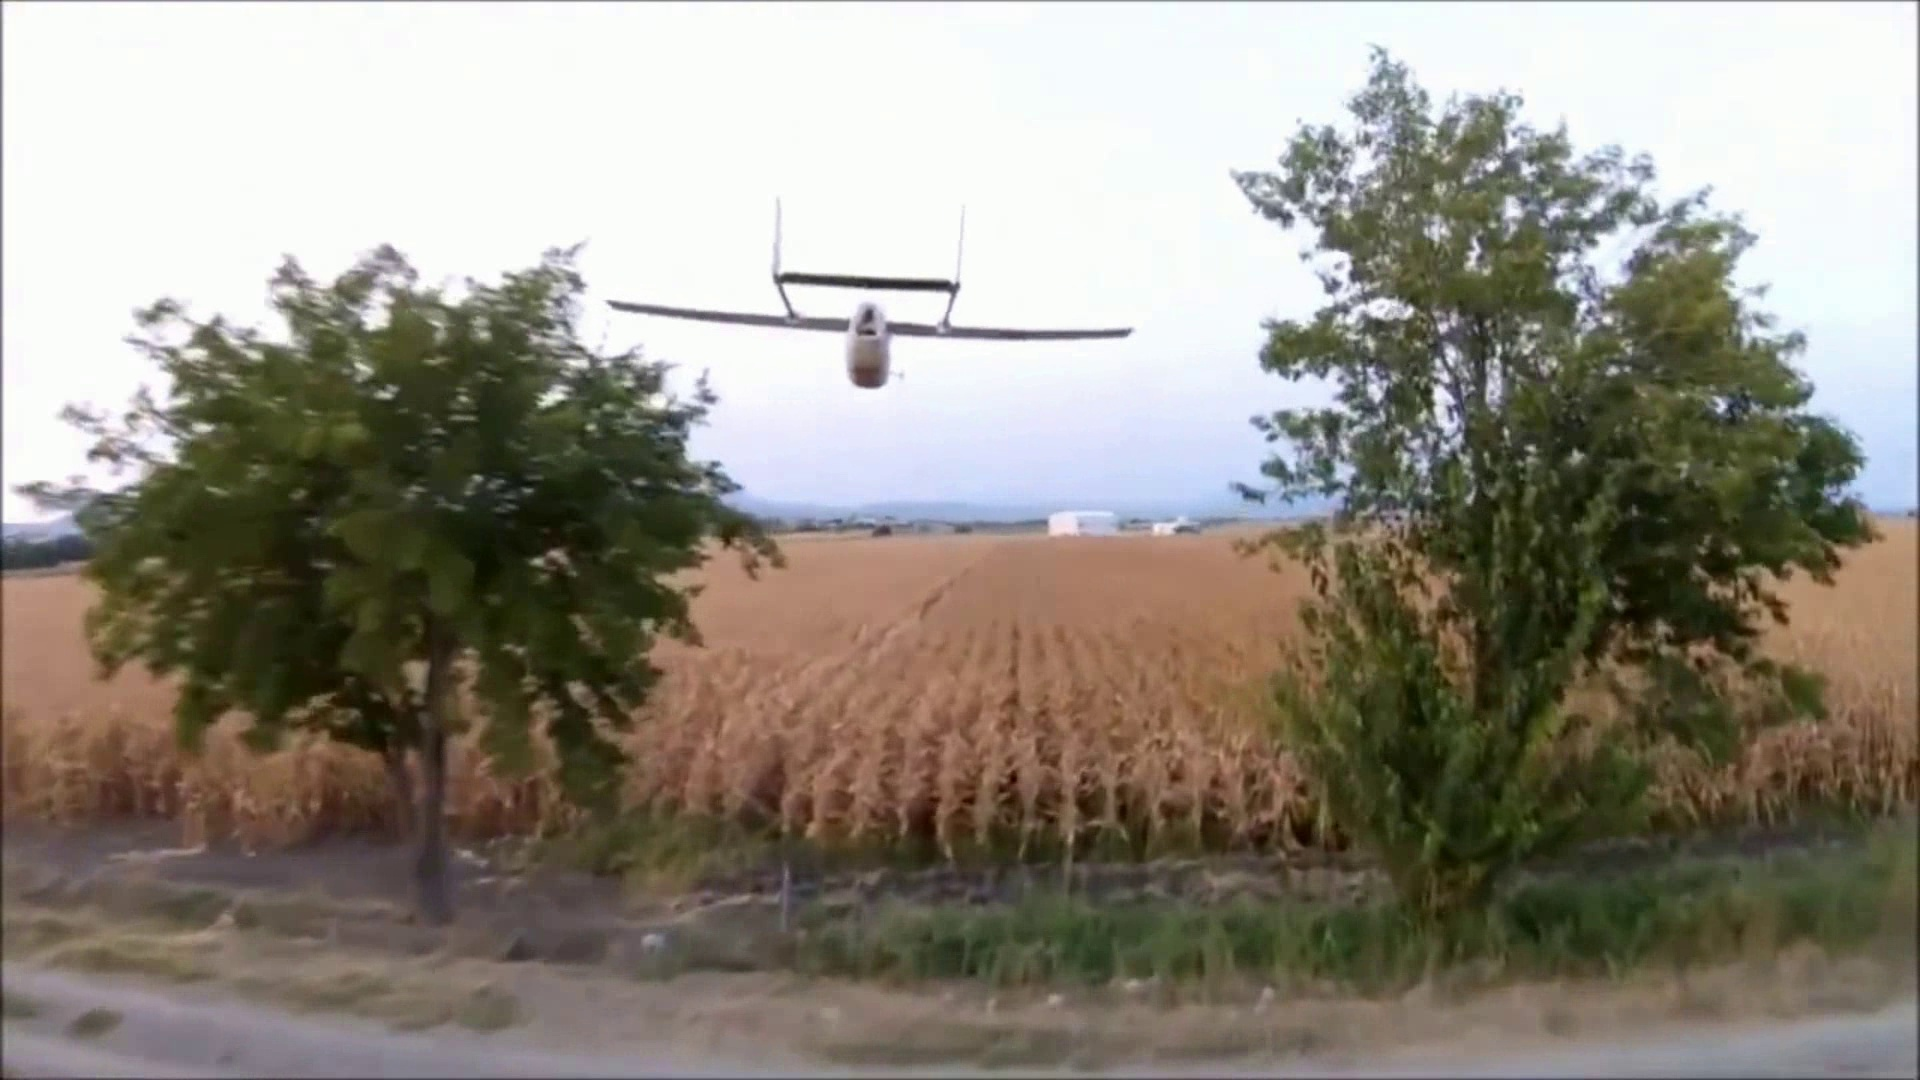airplane: (609, 196, 1137, 392)
